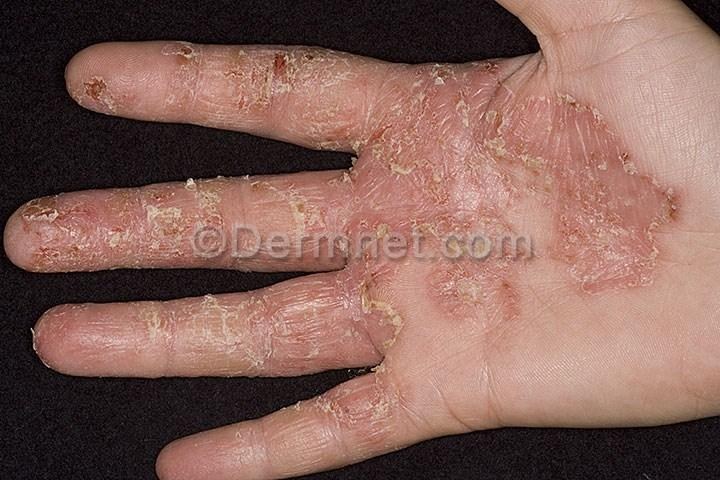Eczema: (530, 63, 685, 268), (373, 190, 523, 373), (358, 58, 524, 189), (212, 44, 354, 147), (104, 187, 284, 245), (192, 289, 296, 378), (76, 300, 184, 383), (313, 372, 411, 462), (291, 266, 376, 368), (284, 175, 381, 263), (91, 37, 199, 114), (195, 415, 279, 480), (16, 201, 103, 263)
